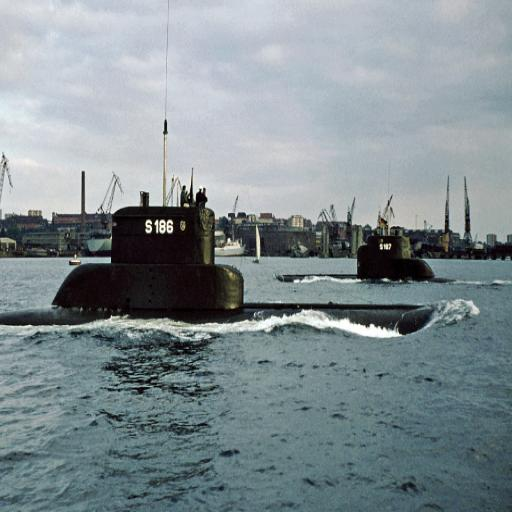submarine: (2, 200, 441, 325), (266, 232, 464, 287)
